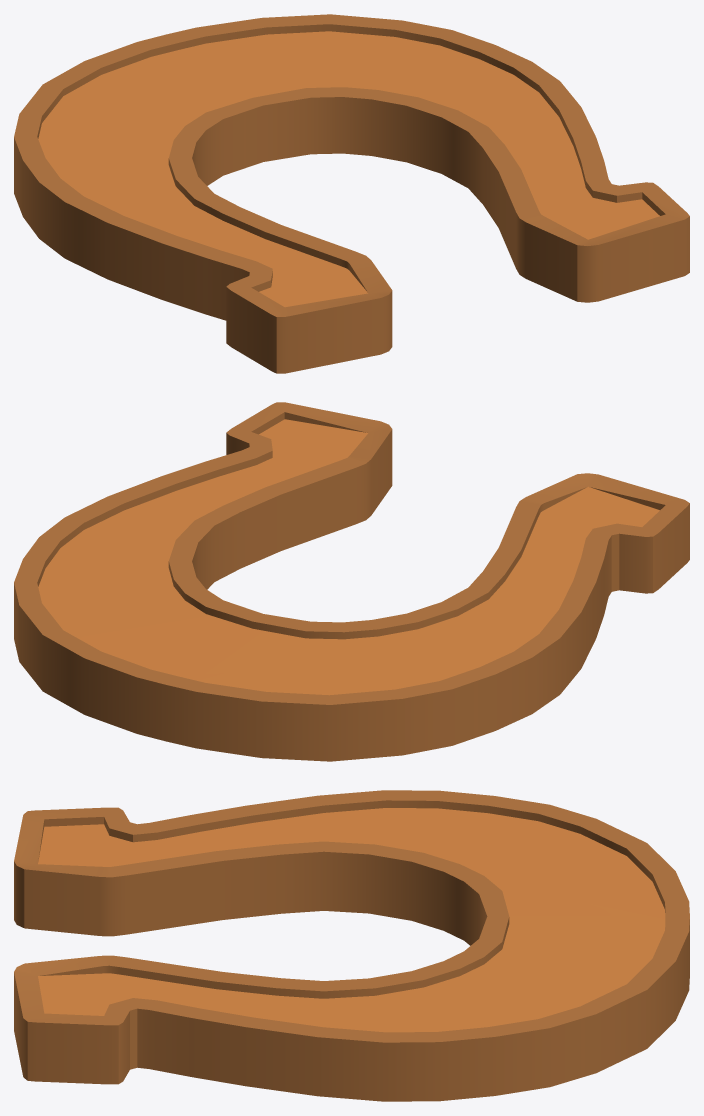
Rendered from HorseShoe_01.fbx.
3 renders of one model, top to bottom at view 1: azimuth 30°, elevation 25°; view 2: azimuth 150°, elevation 25°; view 3: azimuth 270°, elevation 25°, orthographic. The views are drawn at different scales.
Parts seen in each view (by area): view 1: HorseShoe_01; view 2: HorseShoe_01; view 3: HorseShoe_01.
Boxes of the visible parts, box(x1,y1,x2,y2) form: HorseShoe_01: box(14, 14, 689, 373); HorseShoe_01: box(14, 402, 689, 761); HorseShoe_01: box(14, 790, 689, 1101).
Size of the model in its own units: 0.2247 by 0.0245 by 0.2543.
